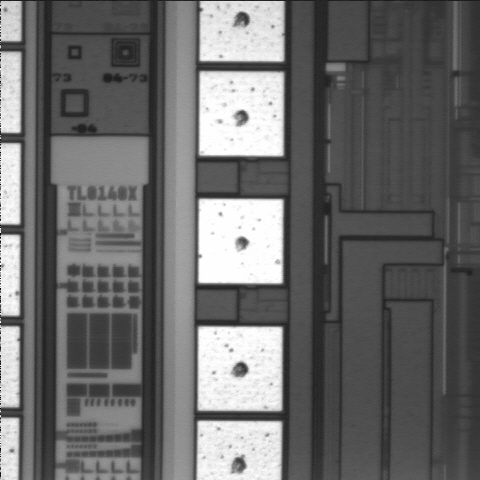pad: (199, 71, 284, 156), (198, 199, 283, 284), (198, 326, 282, 411)
